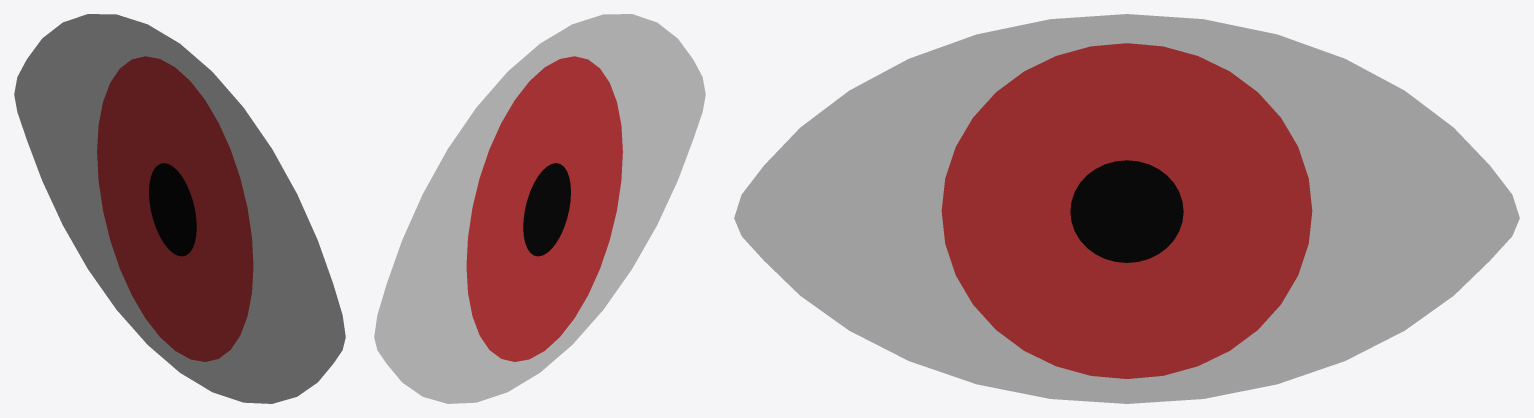
The model's file is eyeProp.glb.
3 views of the same model, side by side, from view 1: azimuth 30°, elevation 25°; view 2: azimuth 150°, elevation 25°; view 3: azimuth 270°, elevation 25° (orthographic). The views are drawn at different scales.
Parts seen in each view (by area): view 1: eye, iris.001, pupil.001; view 2: eye, iris.001, pupil.001; view 3: eye, iris, pupil.
Part boxes in pixels (x1=…): eye: x1=14, y1=14, x2=345, y2=403; iris.001: x1=97, y1=56, x2=253, y2=361; pupil.001: x1=149, y1=163, x2=196, y2=256; eye: x1=374, y1=14, x2=705, y2=403; iris.001: x1=466, y1=56, x2=622, y2=361; pupil.001: x1=523, y1=163, x2=570, y2=256; eye: x1=734, y1=14, x2=1519, y2=403; iris: x1=941, y1=43, x2=1312, y2=378; pupil: x1=1070, y1=160, x2=1183, y2=262.
Size of the model in its own units: 0.0422 by 1.1 by 2.
